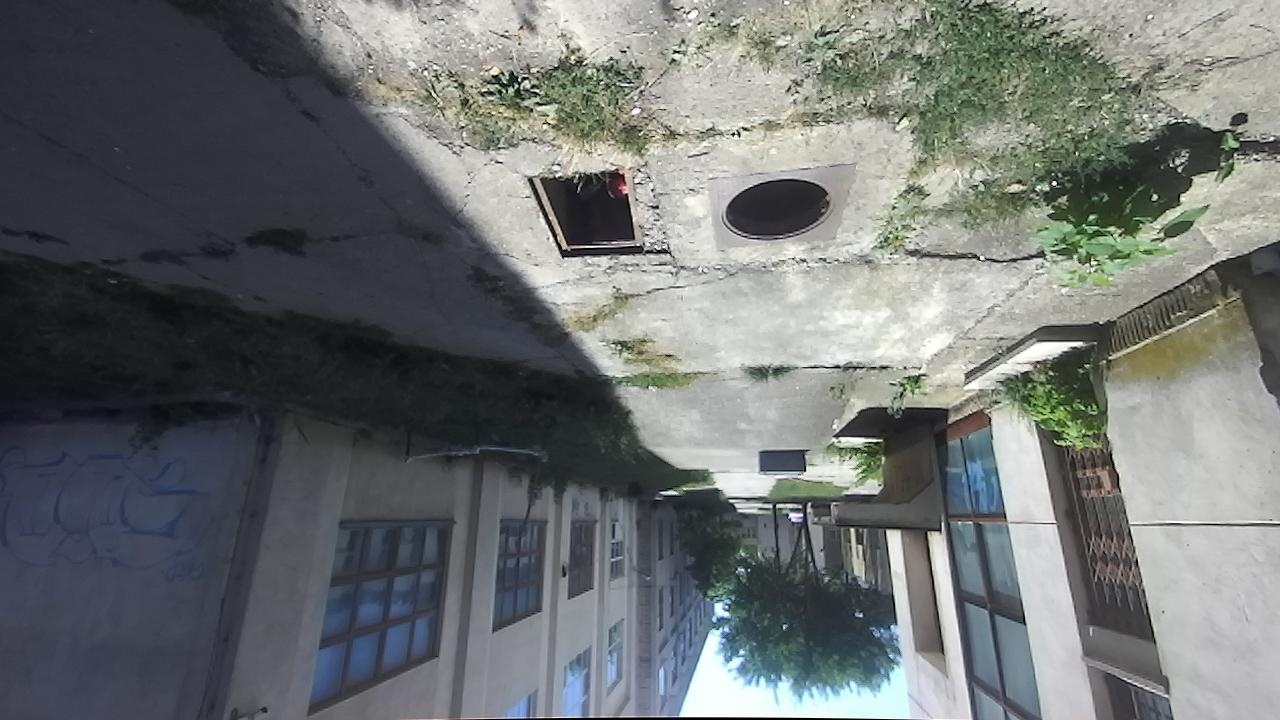drain: (532, 169, 669, 262), (715, 177, 836, 242)
